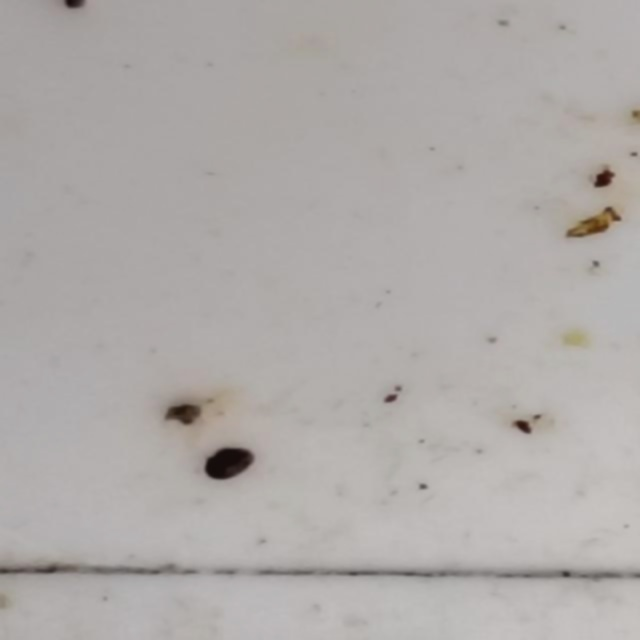varroa: (203, 446, 259, 484)
